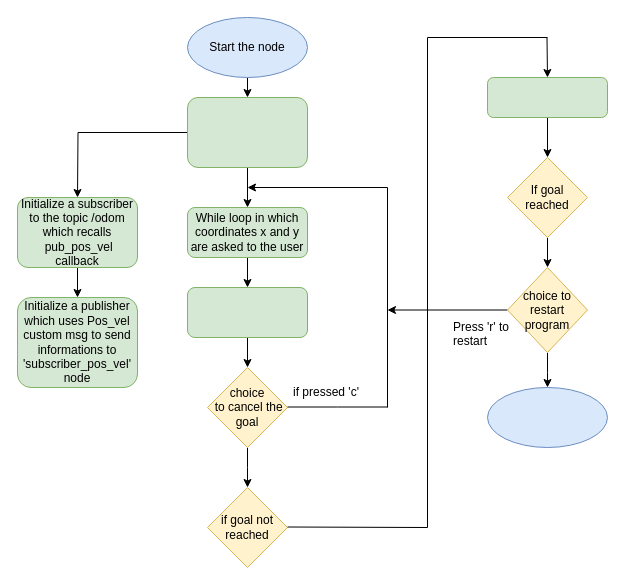
This 625x585 diagram has some shape labels left out. Here are the shapes that lost their labels. From the top down, the centre of each, then its label:
[547,97]: Print feedback using its topic
[247,132]: Create a client with PlanningAction action and /reaching_goal topic
[247,312]: Set x and y as des_pos (robot starts moving)
[547,417]: End program
